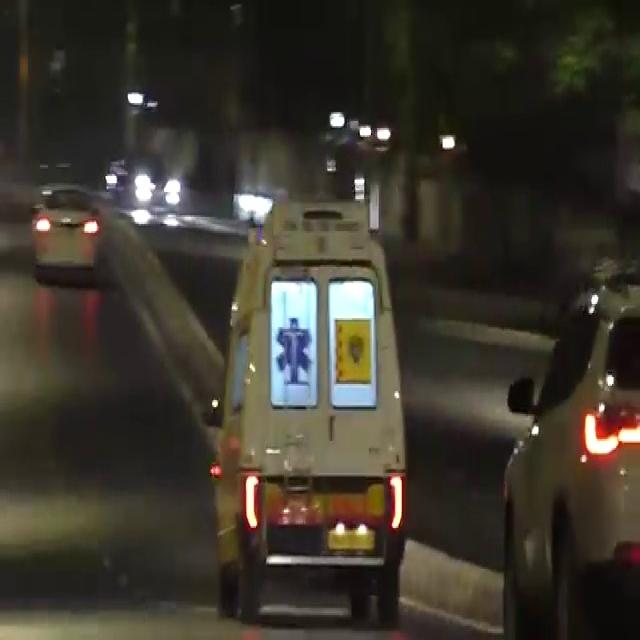ambulance: (226, 184, 415, 588)
